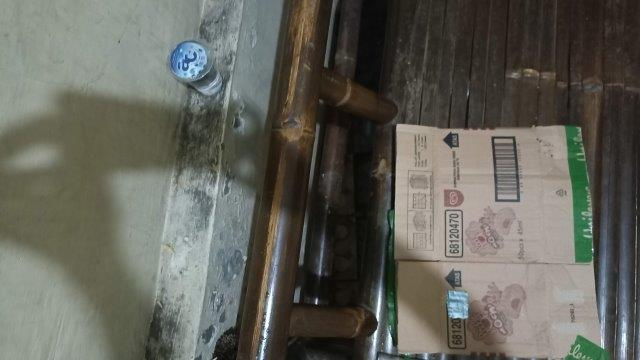kardus: (395, 123, 601, 357)
